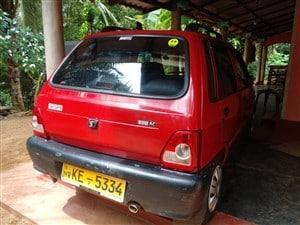license-plate: (60, 160, 123, 206)
